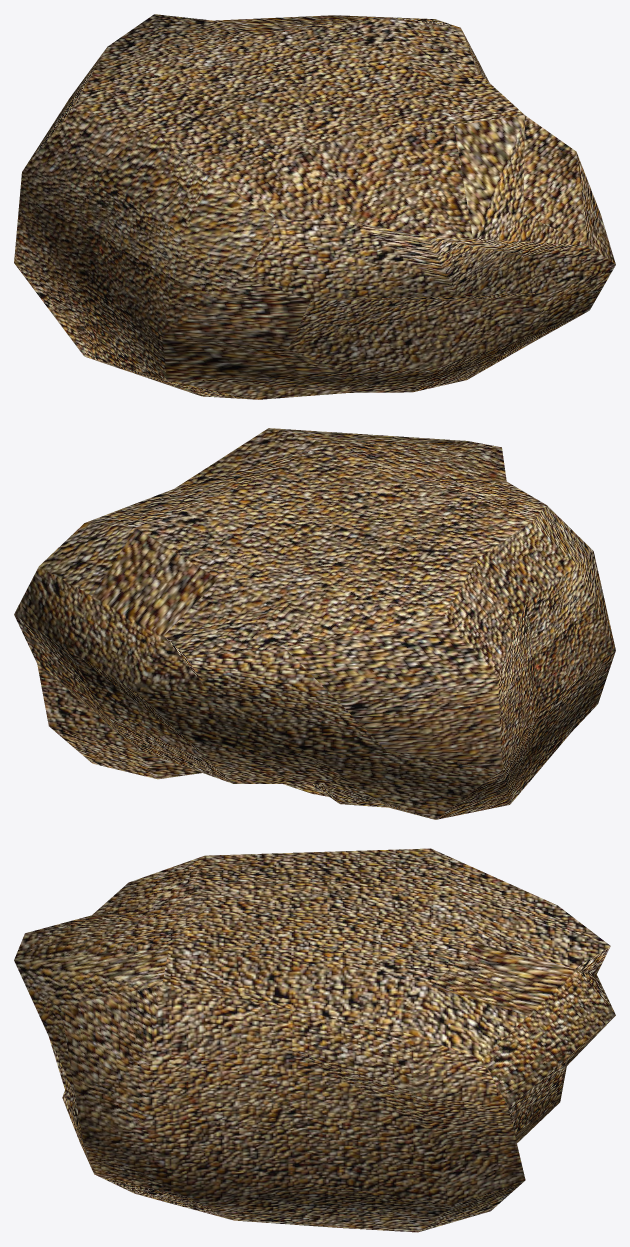
File: caillou-quimarche.fbx
3 renders of one model, top to bottom at view 1: azimuth 30°, elevation 25°; view 2: azimuth 150°, elevation 25°; view 3: azimuth 270°, elevation 25°, orthographic.
Parts seen in each view (by area): view 1: Cube; view 2: Cube; view 3: Cube.
Part boxes in pixels (<box>): Cube: <box>14,14,615,399</box>; Cube: <box>14,428,615,819</box>; Cube: <box>14,848,615,1232</box>.
Size of the model in its own units: 3.18 by 1.68 by 3.63.
Materials: 1 (1 with a texture image).
